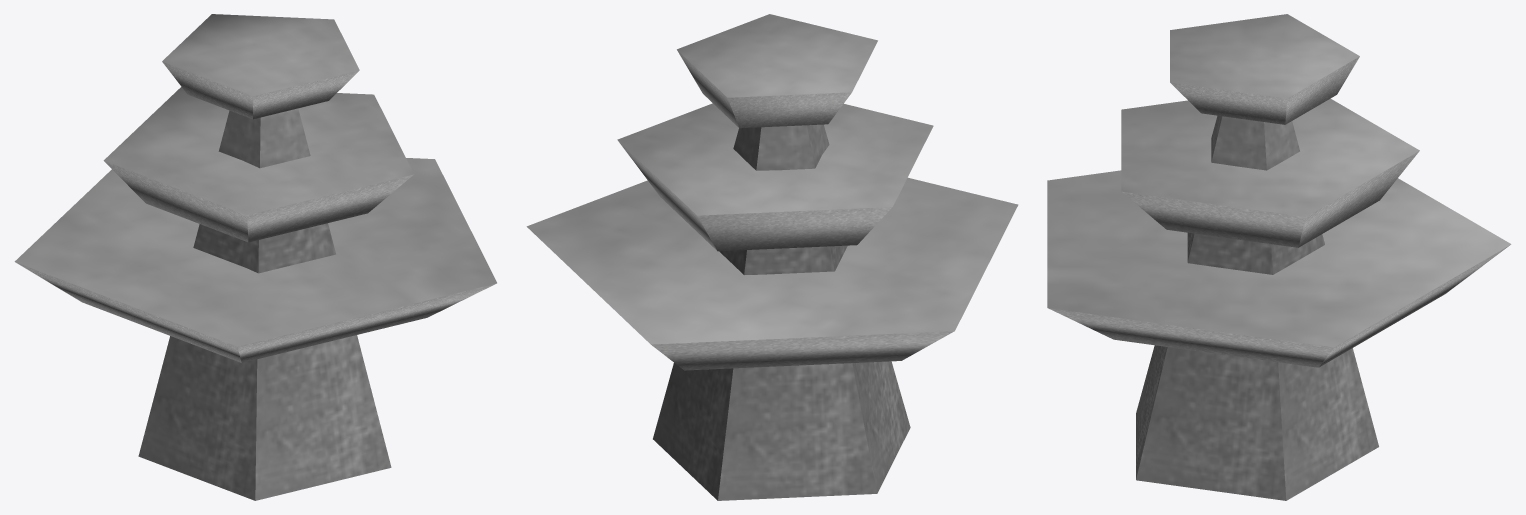
The model's file is Fountain.fbx.
3 views of the same model, side by side, from view 1: azimuth 30°, elevation 25°; view 2: azimuth 150°, elevation 25°; view 3: azimuth 270°, elevation 25° (orthographic).
Parts seen in each view (by area): view 1: Fountain_1; view 2: Fountain_1; view 3: Fountain_1.
Boxes of the visible parts, x1=… form: Fountain_1: x1=14, y1=14, x2=496, y2=500; Fountain_1: x1=526, y1=14, x2=1018, y2=500; Fountain_1: x1=1047, y1=14, x2=1511, y2=500.
Size of the model in its own units: 177 by 157 by 169.
